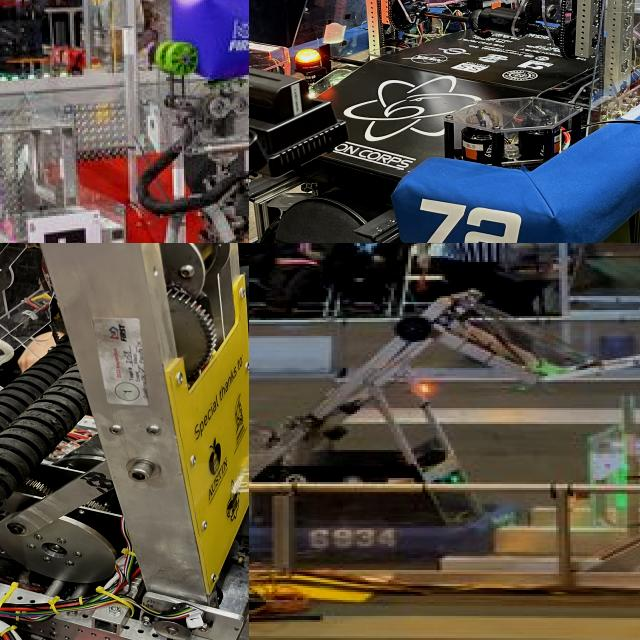FRC-Robots: (249, 280, 614, 564), (0, 243, 249, 640), (249, 0, 640, 243), (0, 0, 249, 243)
